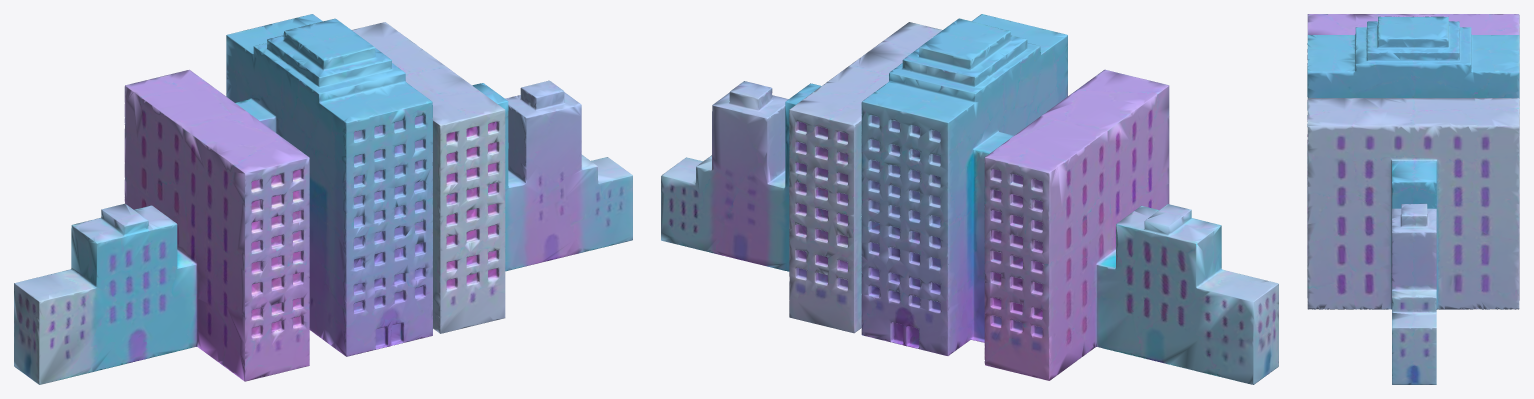
The model's file is meshy_distant_building_opt.glb.
The picture shows the model from 3 angles, left to right: view 1: azimuth 30°, elevation 25°; view 2: azimuth 150°, elevation 25°; view 3: azimuth 270°, elevation 25°; orthographic projection. The views are drawn at different scales.
Size of the model in its own units: 1.9 by 0.8055 by 0.6668.
Materials: 1 (1 with a texture image).
